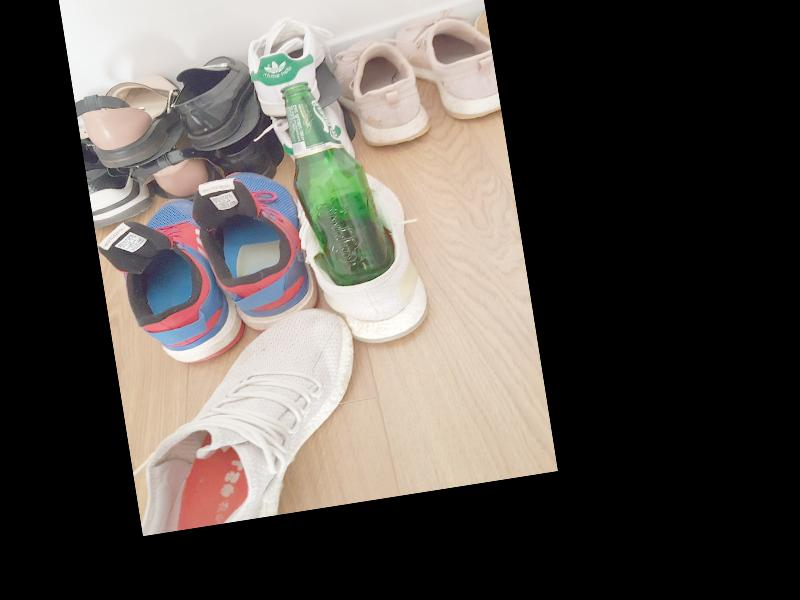Beer: (277, 74, 396, 291)
